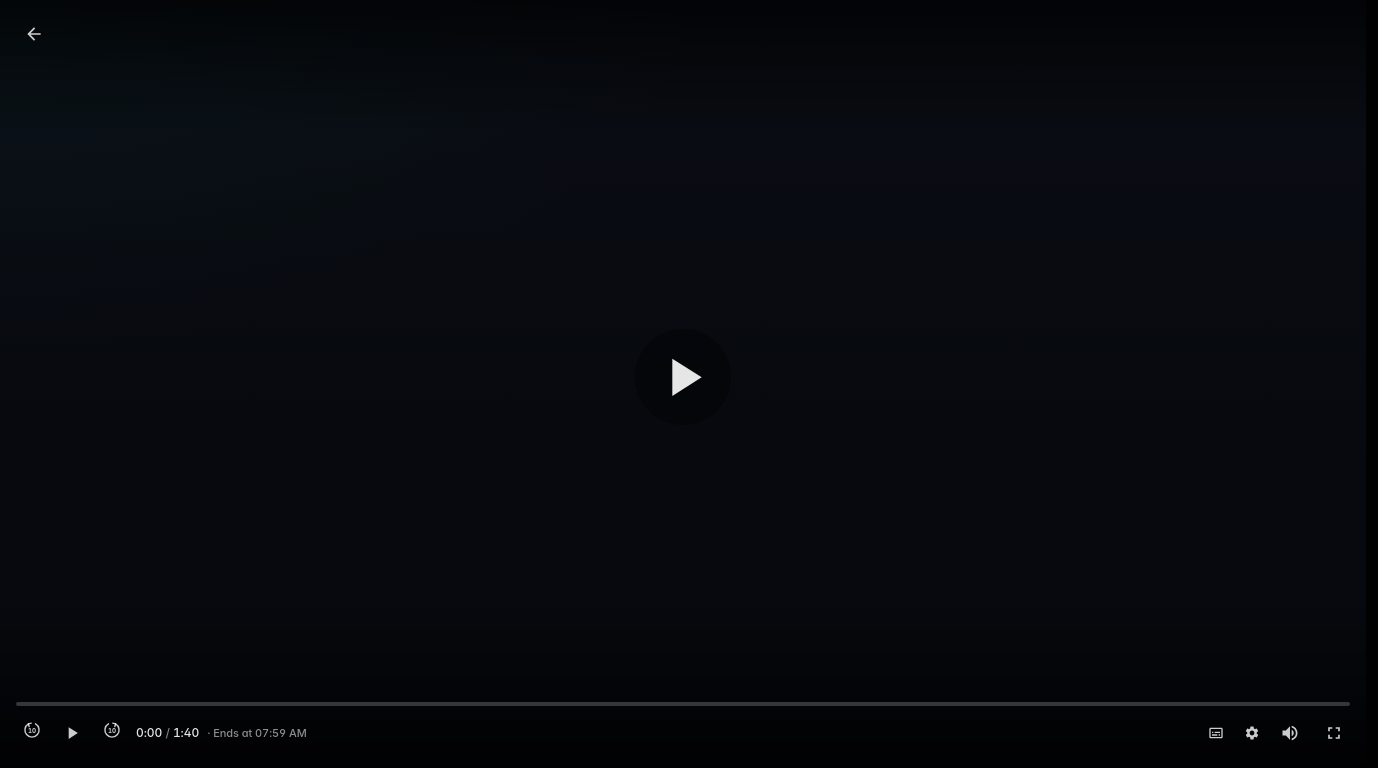
PlayerControls — subtitles picker › lista la fila Ninguno y las pistas del fichero — sin búsqueda online
Click the button named "Subtitles". click: (1216, 733)
box: [1202, 719, 1230, 747]
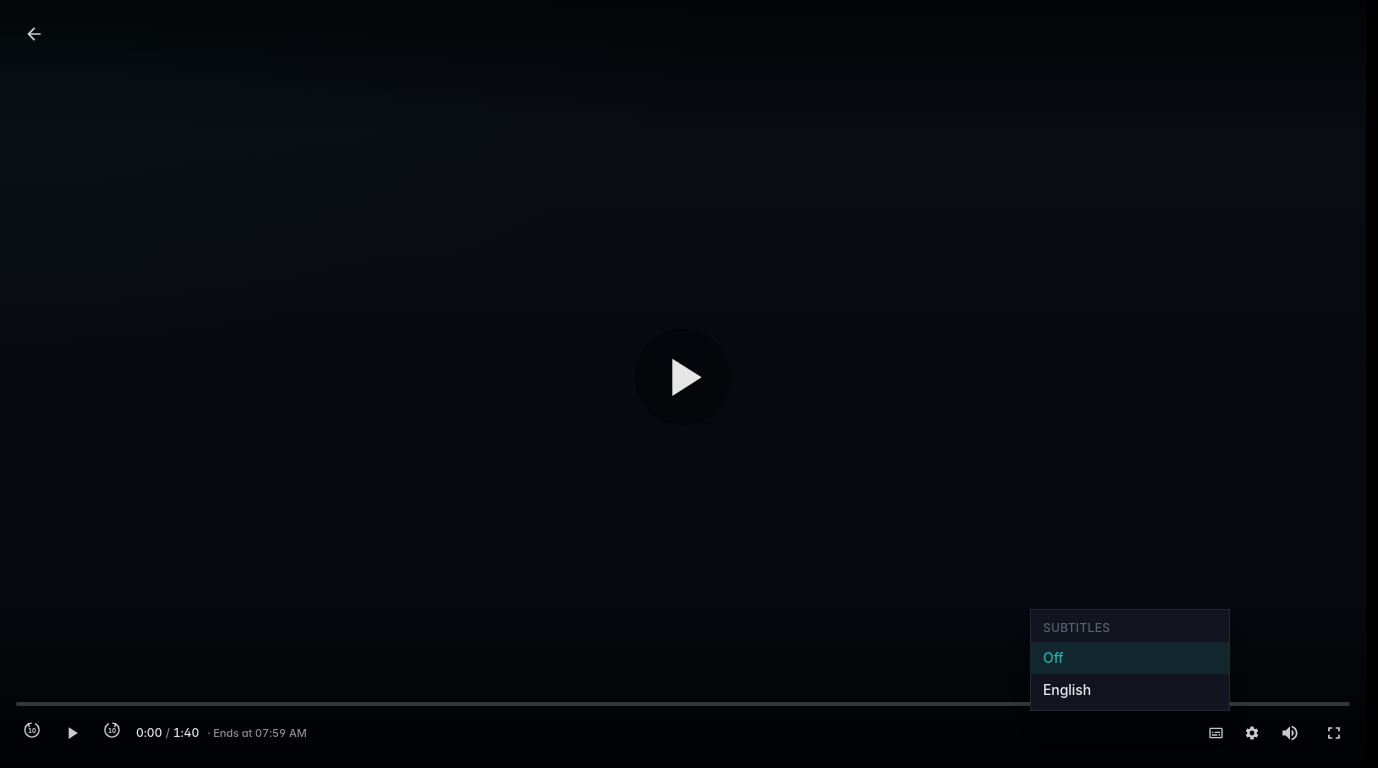
Check: the button "Off" is shown, box [1031, 642, 1229, 674]
Check: the text "English" is shown, box [1043, 681, 1091, 698]
